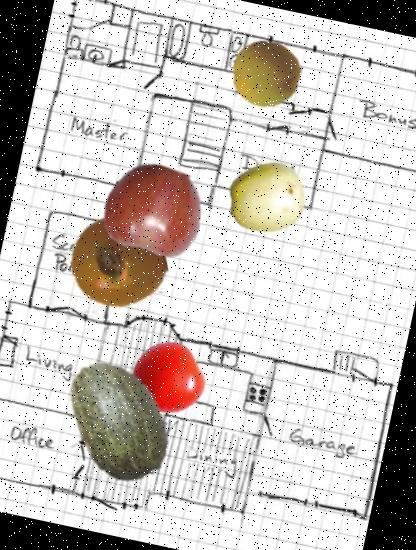Apple: (220, 150, 316, 246)
Cherry: (96, 152, 212, 268)
Melon: (37, 348, 188, 500)
Peach: (226, 33, 309, 116)
Physalis: (61, 204, 175, 318)
Tomato: (125, 336, 210, 422)
